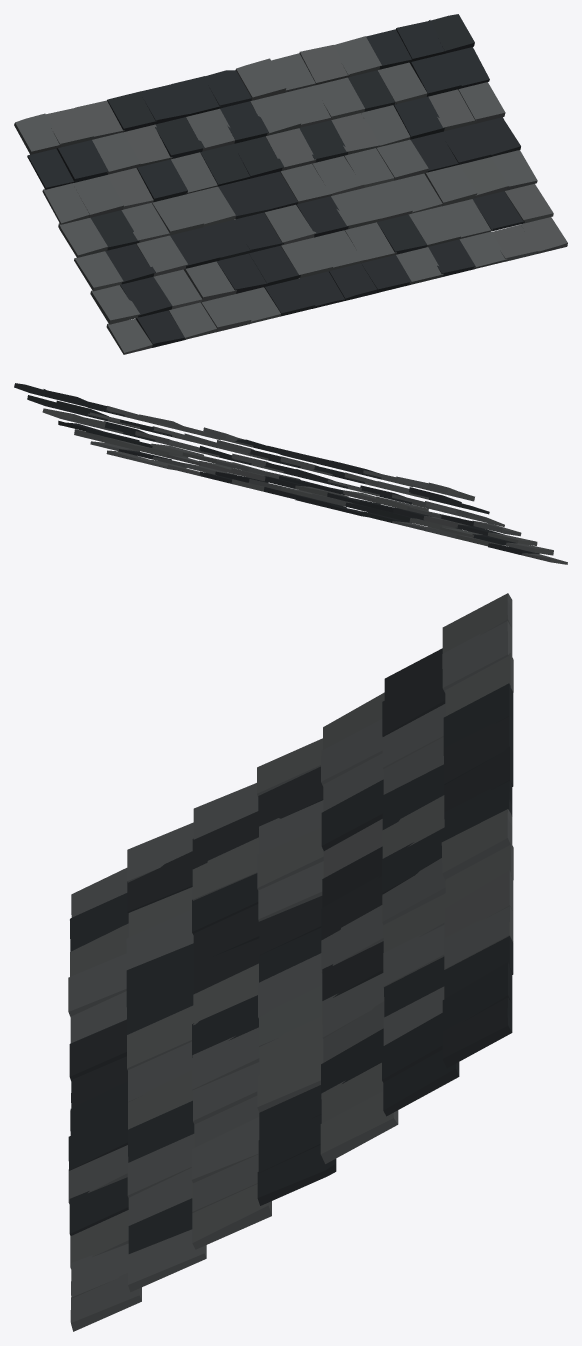
Rendered from RoofTiles2.fbx.
3 views of the same model, one above another, from view 1: azimuth 30°, elevation 25°; view 2: azimuth 150°, elevation 25°; view 3: azimuth 270°, elevation 25° (orthographic). The views are drawn at different scales.
Parts seen in each view (by area): view 1: RoofTiles2; view 2: RoofTiles2; view 3: RoofTiles2.
Part boxes in pixels (x1=…): RoofTiles2: x1=14, y1=14, x2=567, y2=354; RoofTiles2: x1=14, y1=383, x2=567, y2=564; RoofTiles2: x1=68, y1=593, x2=513, y2=1331.
Size of the model in its own units: 629 by 273 by 210.
